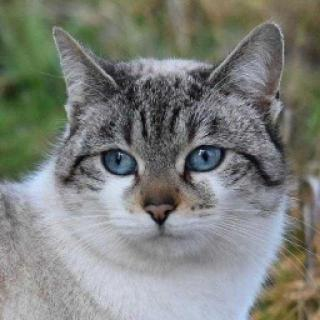cat: (45, 21, 294, 265)
nose: (140, 181, 180, 226)
